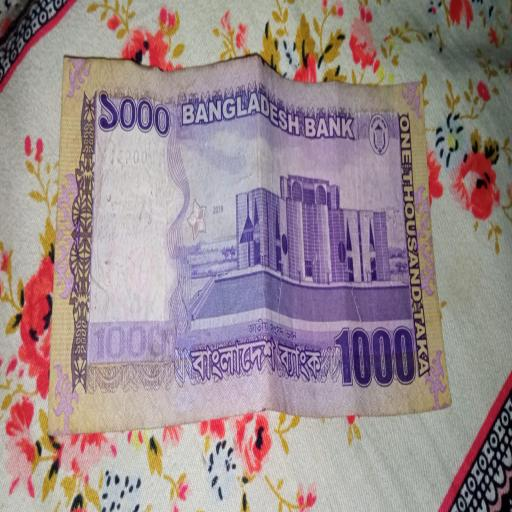1000taka: (56, 78, 430, 428)
